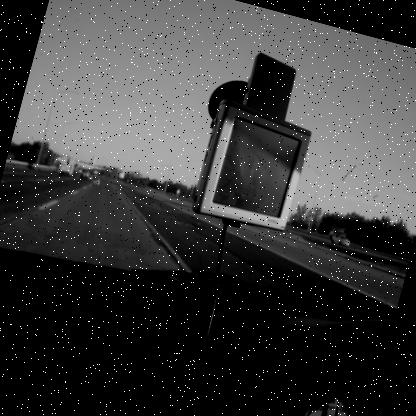Car: (0, 0, 415, 415), (330, 230, 350, 248), (90, 174, 102, 186), (86, 174, 92, 180)
